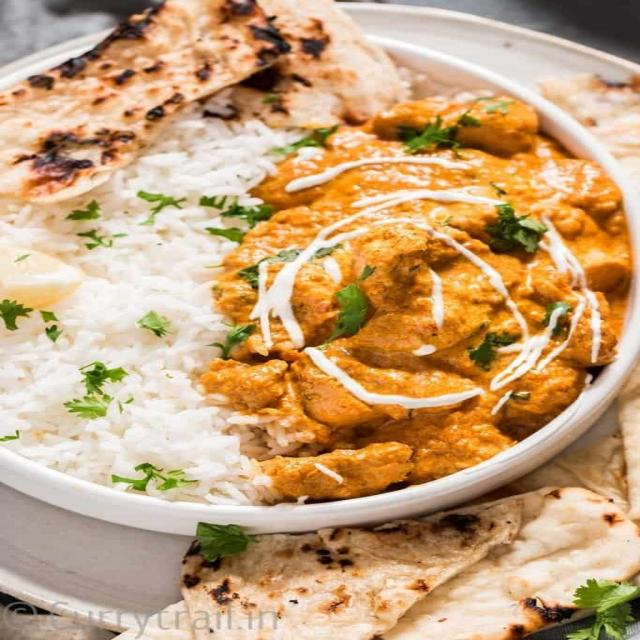Butter Chicken: (216, 89, 635, 499)
White Rice: (1, 140, 292, 482)
